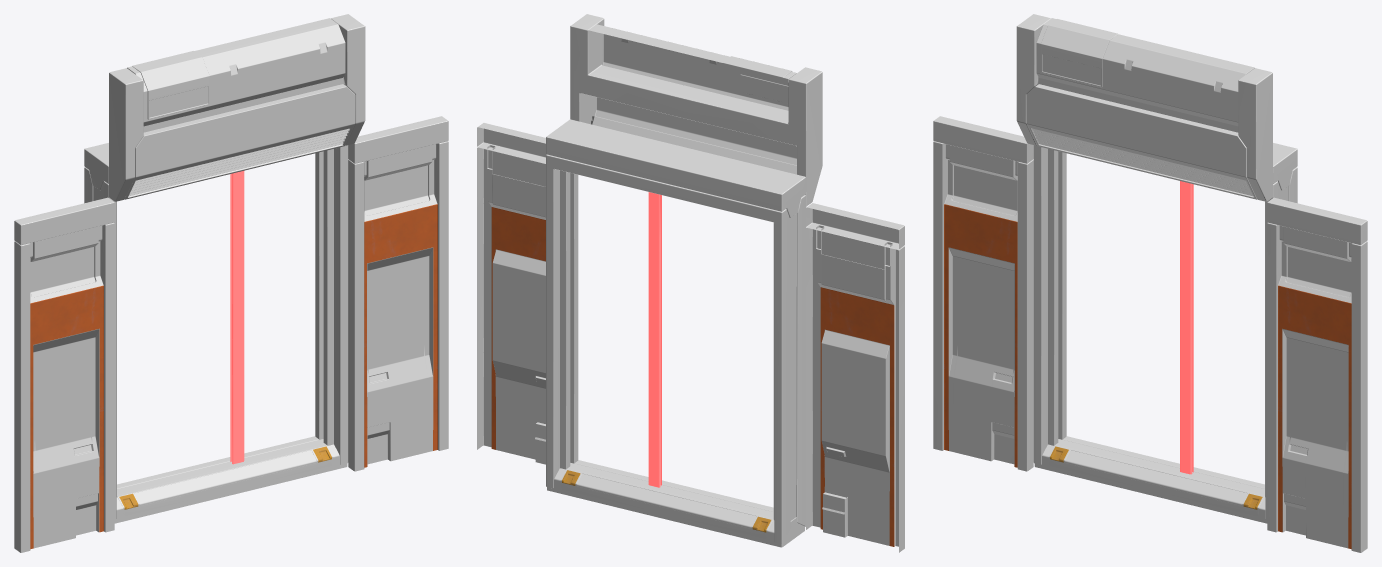
Rendered from small_door 1.fbx.
3 views of the same model, side by side, from view 1: azimuth 30°, elevation 25°; view 2: azimuth 150°, elevation 25°; view 3: azimuth 330°, elevation 25° (orthographic).
Parts seen in each view (by area): view 1: Cube.135, Cube.081, Cube.134, Cube.067, Plane1754.002, Plane1754.003; view 2: Cube.067, Cube.081, Cube.135, Cube.134, Plane1754.003, Plane1754.002; view 3: Cube.135, Cube.134, Cube.081, Cube.067, Plane1754.002, Plane1754.003.
Boxes of the visible parts, x1,y1,x2,y2 form: Cube.135: (109,14,365,201); Cube.081: (14,197,114,552); Cube.134: (348,116,448,471); Cube.067: (84,143,348,523); Plane1754.002: (232,171,244,464); Plane1754.003: (230,173,231,461); Cube.067: (546,119,805,547); Cube.081: (806,203,904,552); Cube.135: (570,14,822,206); Cube.134: (477,123,546,464); Plane1754.003: (648,192,660,487); Plane1754.002: (660,195,661,485); Cube.135: (1016,14,1272,201); Cube.134: (1267,197,1367,552); Cube.081: (933,116,1033,471); Cube.067: (1033,143,1297,523); Plane1754.002: (1180,181,1192,474); Plane1754.003: (1192,184,1193,472).
Size of the model in its own units: 499 by 506 by 84.42.
